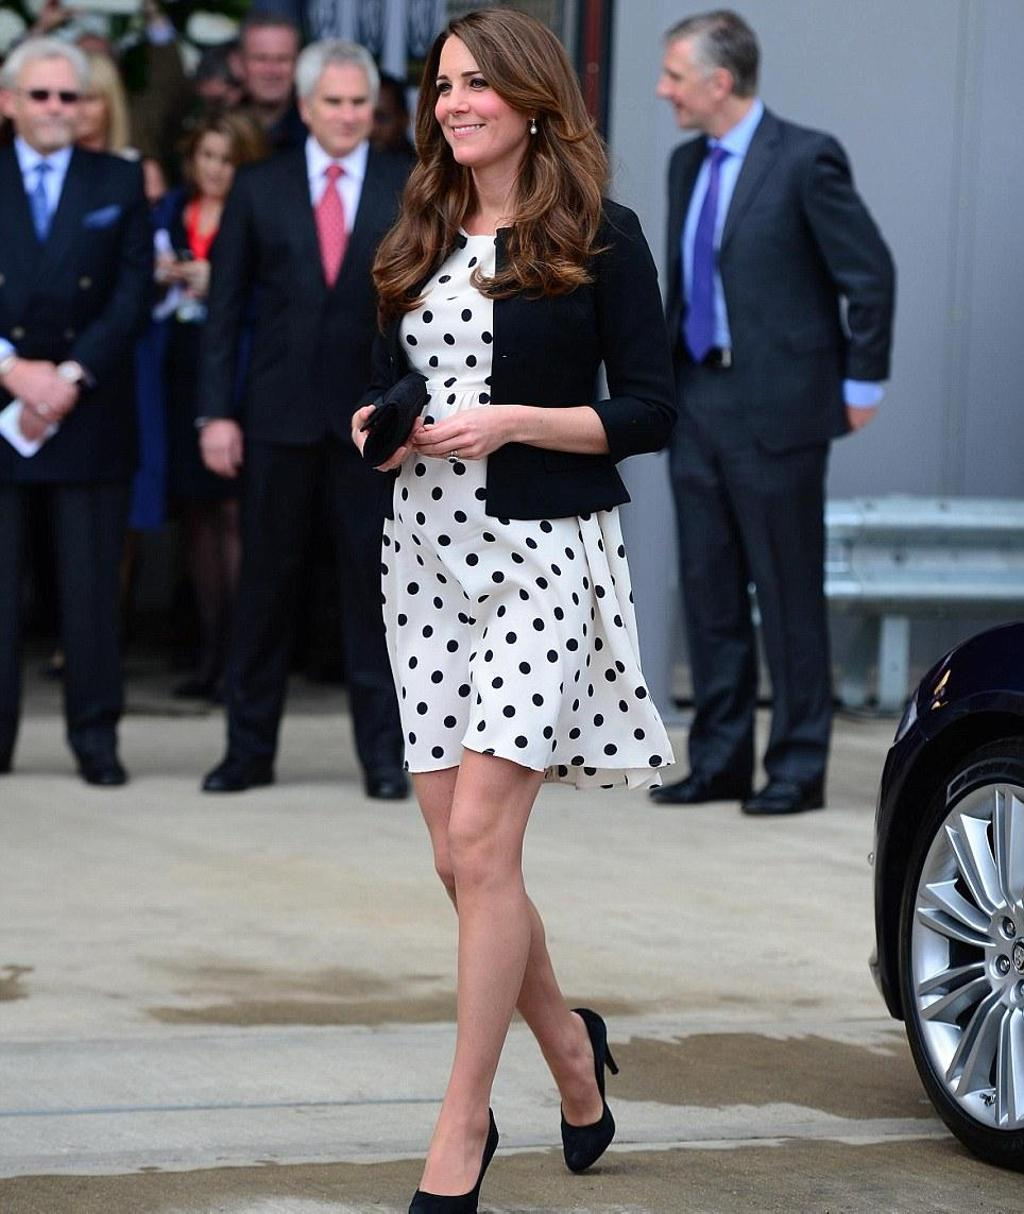face: (431, 31, 528, 164), (306, 59, 372, 149), (17, 59, 81, 149), (657, 31, 714, 126), (239, 24, 296, 102), (190, 133, 242, 197)
